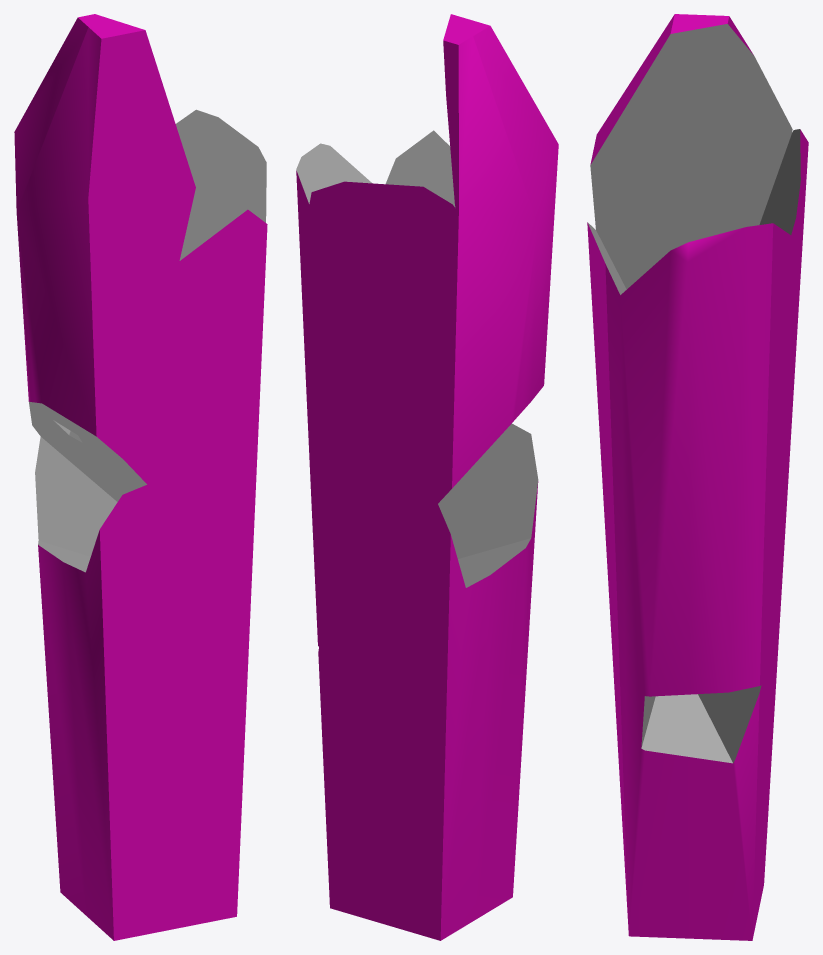
Rendered from Broken_Crystal_7_LOD.fbx.
The picture shows the model from 3 angles, left to right: view 1: azimuth 30°, elevation 25°; view 2: azimuth 150°, elevation 25°; view 3: azimuth 270°, elevation 25°; orthographic projection. The views are drawn at different scales.
Parts seen in each view (by area): view 1: polySurface169; view 2: polySurface169; view 3: polySurface169.
Part boxes in pixels (x1=…): polySurface169: x1=14, y1=14, x2=267, y2=940; polySurface169: x1=296, y1=14, x2=558, y2=940; polySurface169: x1=587, y1=14, x2=808, y2=940.
Bounding box in the file's own units: 2.66 × 9.51 × 2.2.
